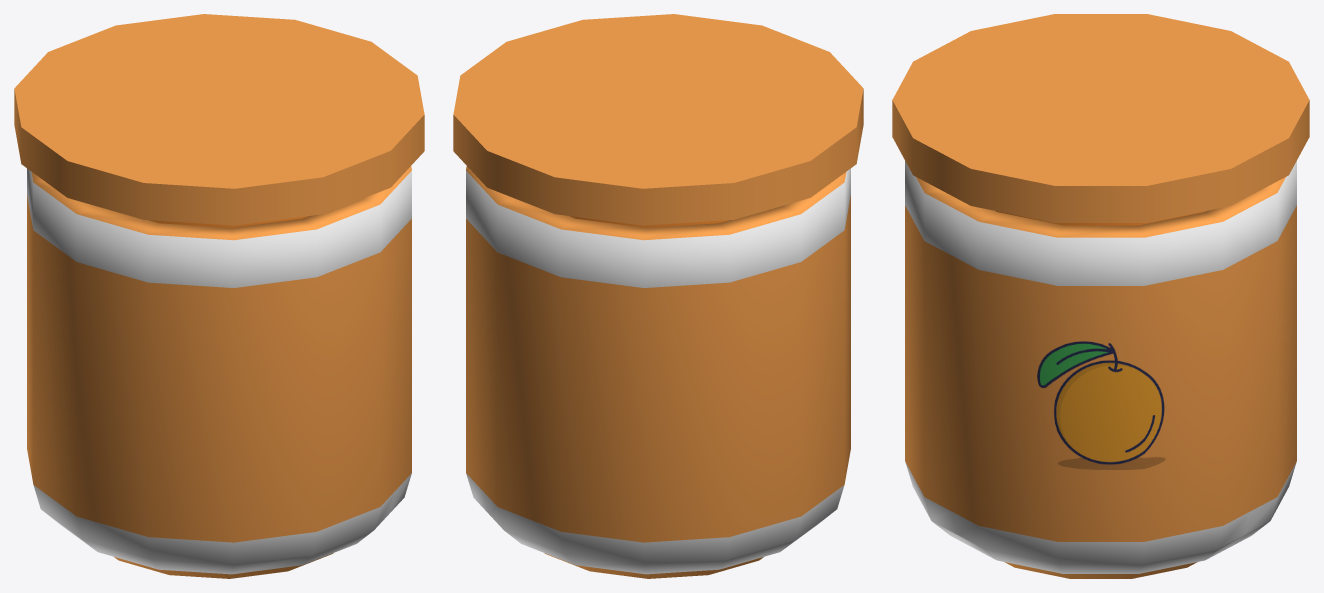
The model's file is ToplesJeruk.fbx.
The picture shows the model from 3 angles, left to right: view 1: azimuth 30°, elevation 25°; view 2: azimuth 150°, elevation 25°; view 3: azimuth 270°, elevation 25°; orthographic projection.
Parts seen in each view (by area): view 1: ToplesWortel.005; view 2: ToplesWortel.005; view 3: ToplesWortel.005.
Part boxes in pixels (x1=…): ToplesWortel.005: x1=14, y1=14, x2=424, y2=578; ToplesWortel.005: x1=453, y1=14, x2=863, y2=578; ToplesWortel.005: x1=892, y1=14, x2=1309, y2=578.
Size of the model in its own units: 41.53 by 47.55 by 42.6.
Materials: 3 (1 with a texture image).
